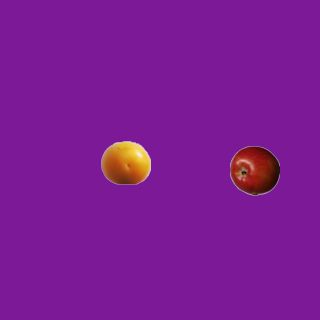Apple Braeburn: (229, 145, 279, 195)
Cherry Wax Yellow: (100, 137, 150, 187)
